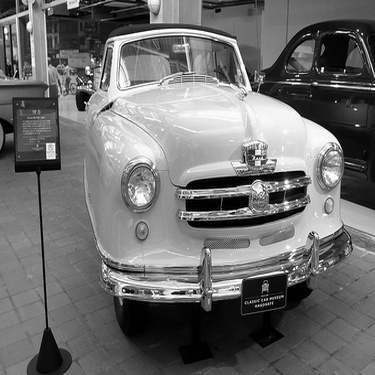car: (84, 27, 353, 335), (255, 20, 375, 178), (74, 60, 105, 111)
